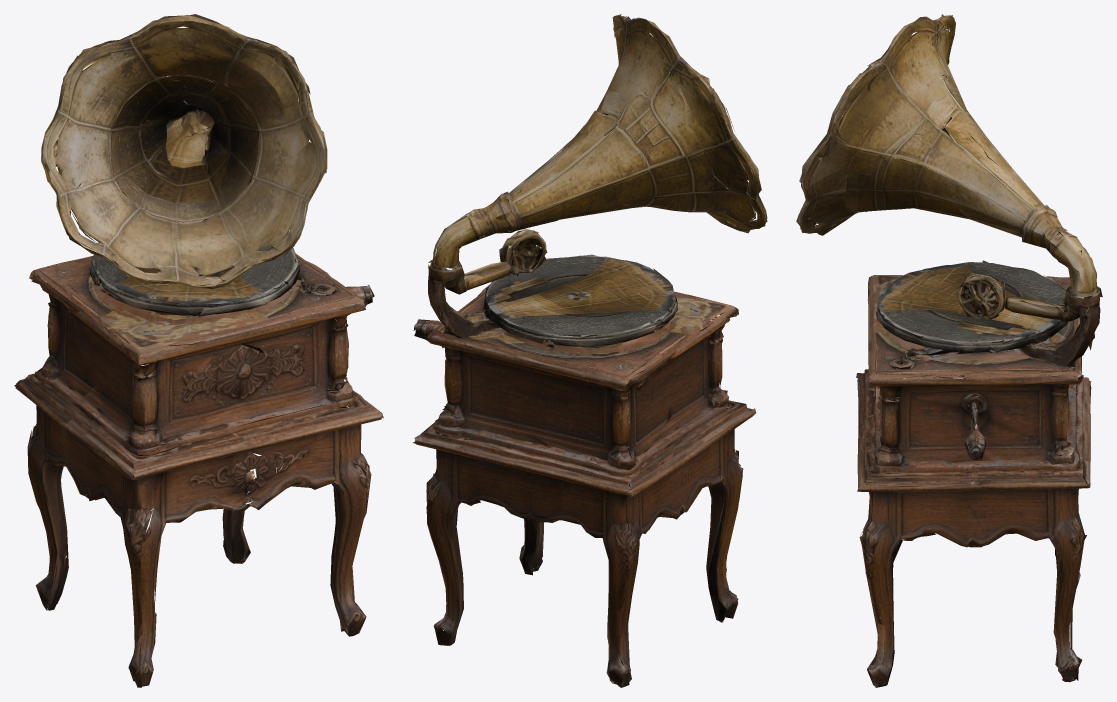
File: Gramophone.fbx
The picture shows the model from 3 angles, left to right: view 1: azimuth 30°, elevation 25°; view 2: azimuth 150°, elevation 25°; view 3: azimuth 270°, elevation 25°; orthographic projection. The views are drawn at different scales.
Visible parts, largest first — view 1: Gramophone; view 2: Gramophone; view 3: Gramophone.
Boxes of the visible parts, x1,y1,x2,y2 form: Gramophone: (14, 14, 383, 687); Gramophone: (413, 14, 767, 687); Gramophone: (796, 14, 1102, 687).
Bounding box in the file's own units: 56.98 × 101 × 46.74.
1 material, 1 textured.
